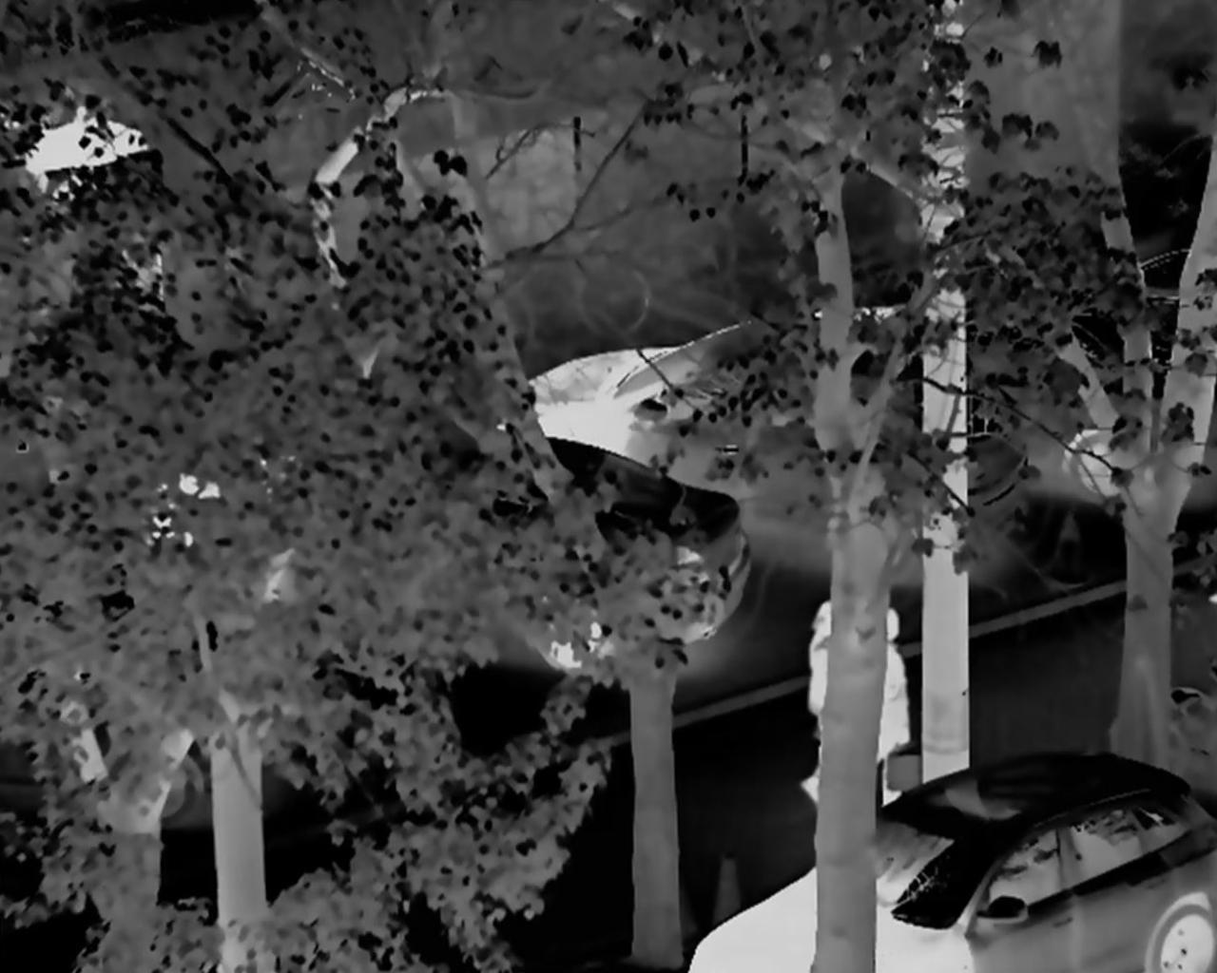person: (806, 588, 863, 811), (857, 601, 915, 814)
